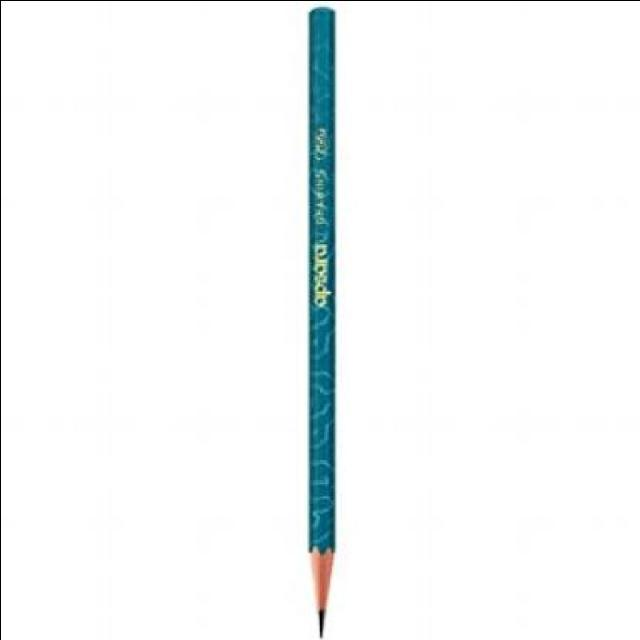Pencil: (292, 522, 350, 638)
